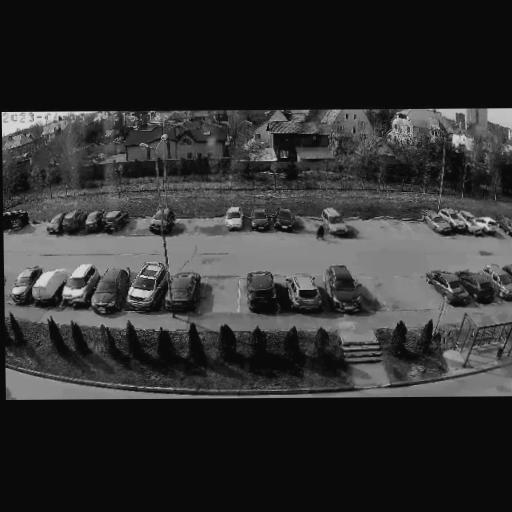busy: (122, 261, 168, 310), (30, 265, 73, 312), (240, 269, 284, 314), (326, 266, 368, 313), (163, 271, 205, 314), (55, 266, 99, 307), (286, 272, 326, 313), (92, 270, 130, 313), (429, 271, 474, 304), (8, 267, 45, 305), (459, 270, 497, 304), (420, 207, 461, 236), (318, 208, 353, 238), (144, 208, 177, 238), (486, 265, 512, 301), (53, 209, 87, 236), (471, 212, 502, 237), (458, 210, 488, 234), (247, 207, 273, 234), (271, 208, 299, 233), (98, 210, 129, 232), (224, 207, 249, 234), (81, 210, 108, 234), (4, 212, 29, 234), (497, 215, 512, 236)
free: (410, 272, 436, 305), (353, 275, 379, 306), (204, 286, 235, 311), (362, 213, 387, 241), (402, 216, 432, 239), (294, 214, 324, 236), (383, 277, 407, 304), (201, 216, 228, 237), (383, 216, 406, 240), (344, 212, 364, 236), (175, 219, 200, 236), (129, 220, 150, 236), (491, 221, 510, 238), (32, 221, 50, 236)
